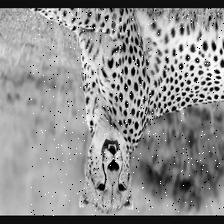Cheetha: (29, 8, 224, 216)
